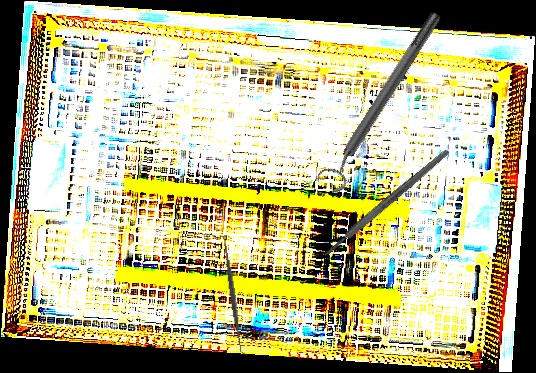Fixation Ring: (312, 6, 452, 197)
Scalpel Handle: (321, 147, 452, 259)
Spatula Surgical: (217, 233, 249, 358)
